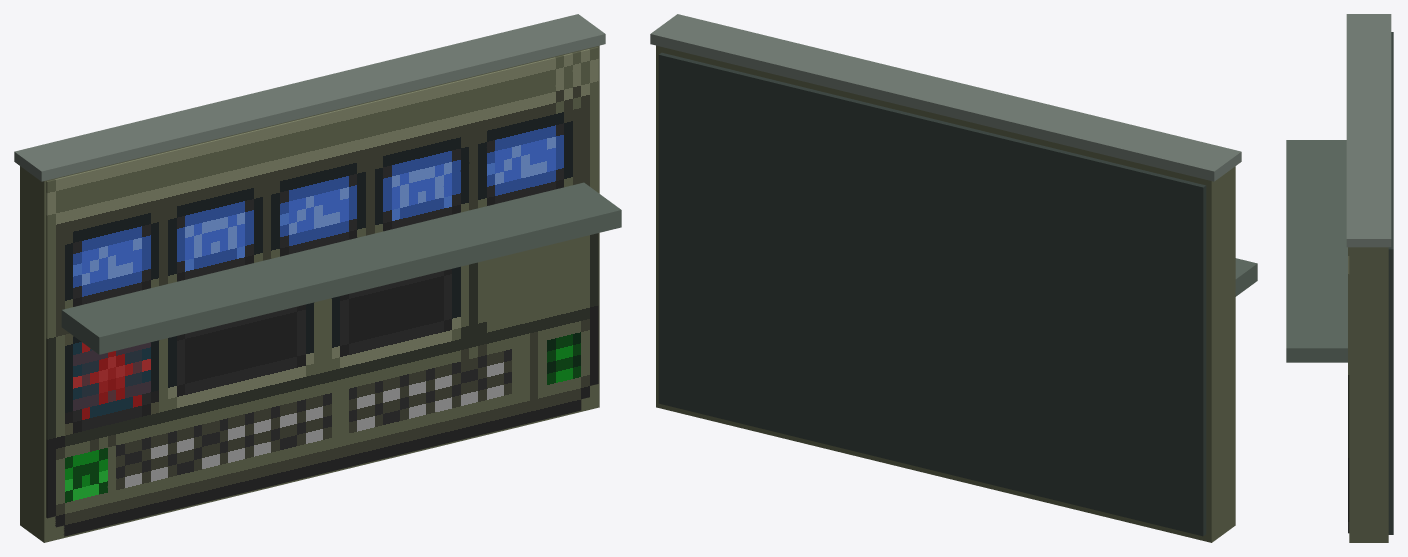
The model's file is CMU3DInteriorRMCOverwatchConsoleSPPTOCRotating.glb.
3 renders of one model, left to right at view 1: azimuth 30°, elevation 25°; view 2: azimuth 150°, elevation 25°; view 3: azimuth 270°, elevation 25°, orthographic. The views are drawn at different scales.
Visible parts, largest first — view 1: source equipment controls, operator keyboard tray, reinforced top, closed equipment casing; view 2: rear service plate, reinforced top, closed equipment casing; view 3: operator keyboard tray, closed equipment casing, reinforced top, rear service plate, source equipment controls.
Boxes of the visible parts, box(x1,y1,x2,y2) form: source equipment controls: box(46, 47, 598, 536); operator keyboard tray: box(61, 182, 621, 354); reinforced top: box(14, 14, 605, 181); closed equipment casing: box(20, 45, 599, 542); rear service plate: box(658, 52, 1206, 536); reinforced top: box(650, 14, 1241, 181); closed equipment casing: box(656, 45, 1235, 542); operator keyboard tray: box(1286, 140, 1347, 362); closed equipment casing: box(1349, 247, 1388, 542); reinforced top: box(1346, 14, 1391, 247); rear service plate: box(1388, 32, 1393, 534); source equipment controls: box(1348, 247, 1349, 533).
Size of the model in its own units: 2.03 by 1.29 by 0.408.
Materials: 5 (1 with a texture image).
